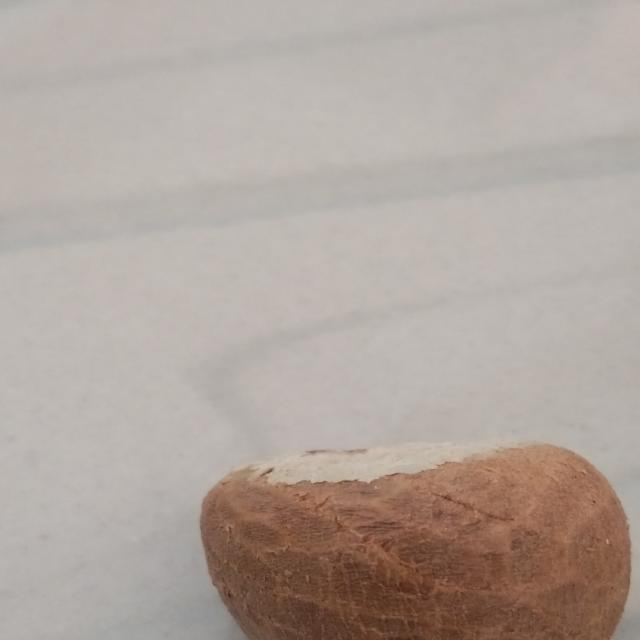good: (190, 416, 640, 640)
